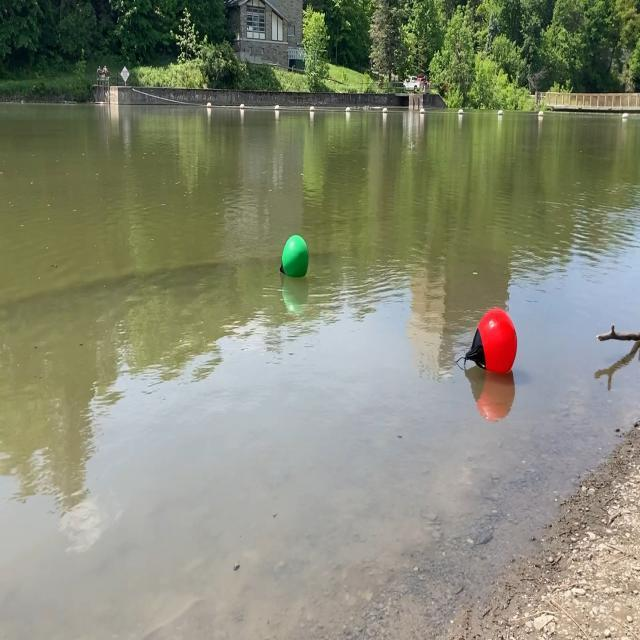buoy: (465, 308, 517, 372), (280, 235, 310, 278)
